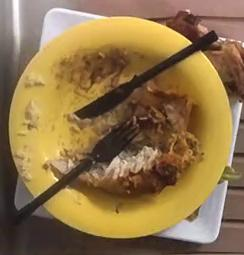chicken: (79, 145, 180, 194), (51, 158, 77, 179)
rice: (53, 45, 127, 96)
